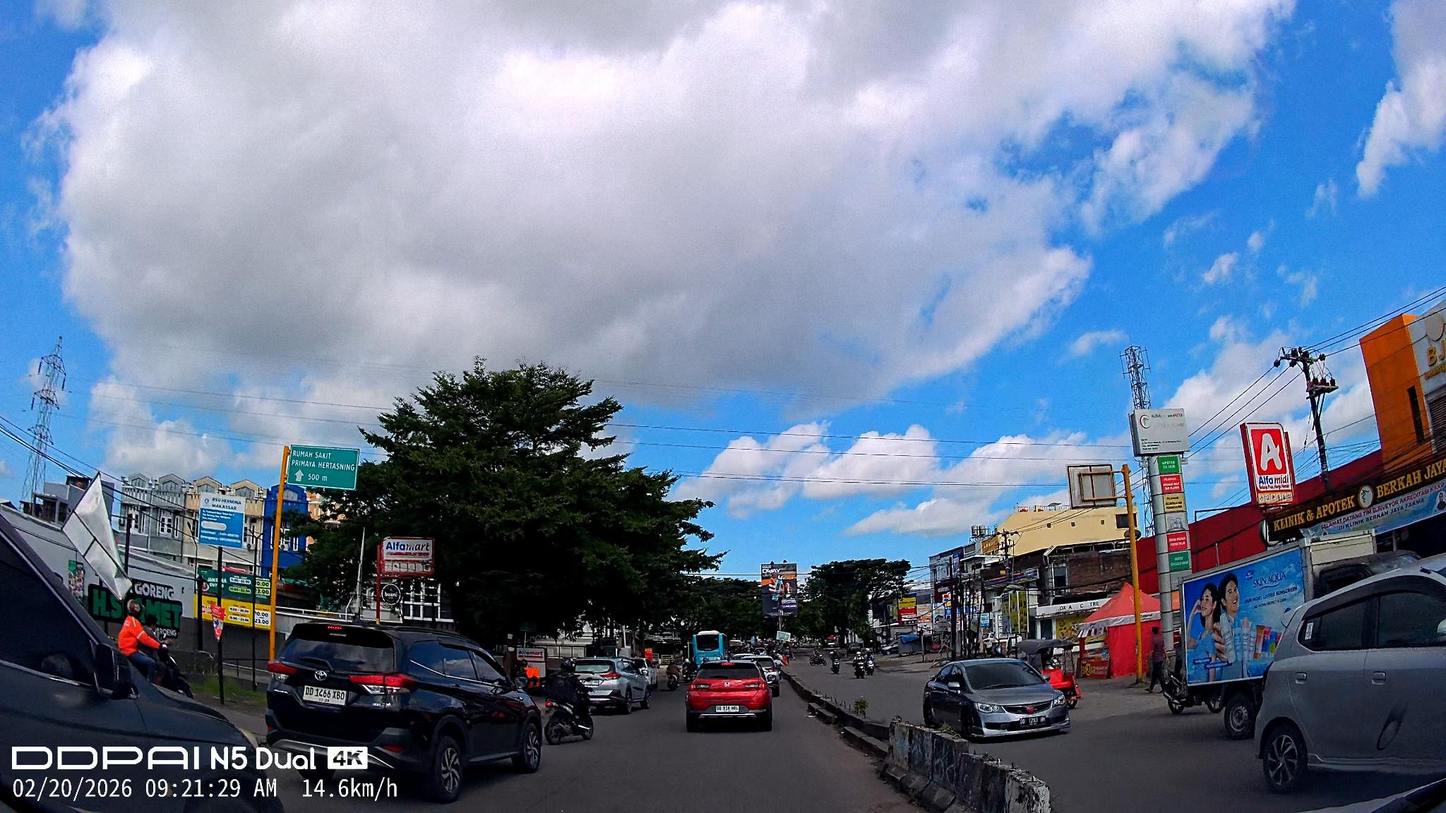rambu_teks: (286, 444, 360, 491)
